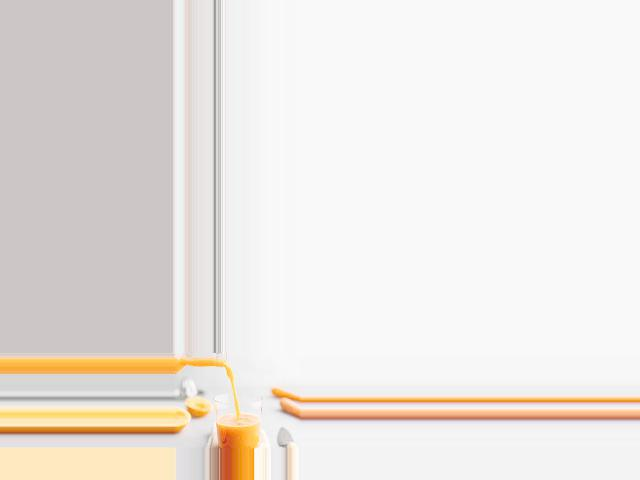carrot: (269, 388, 300, 421)
